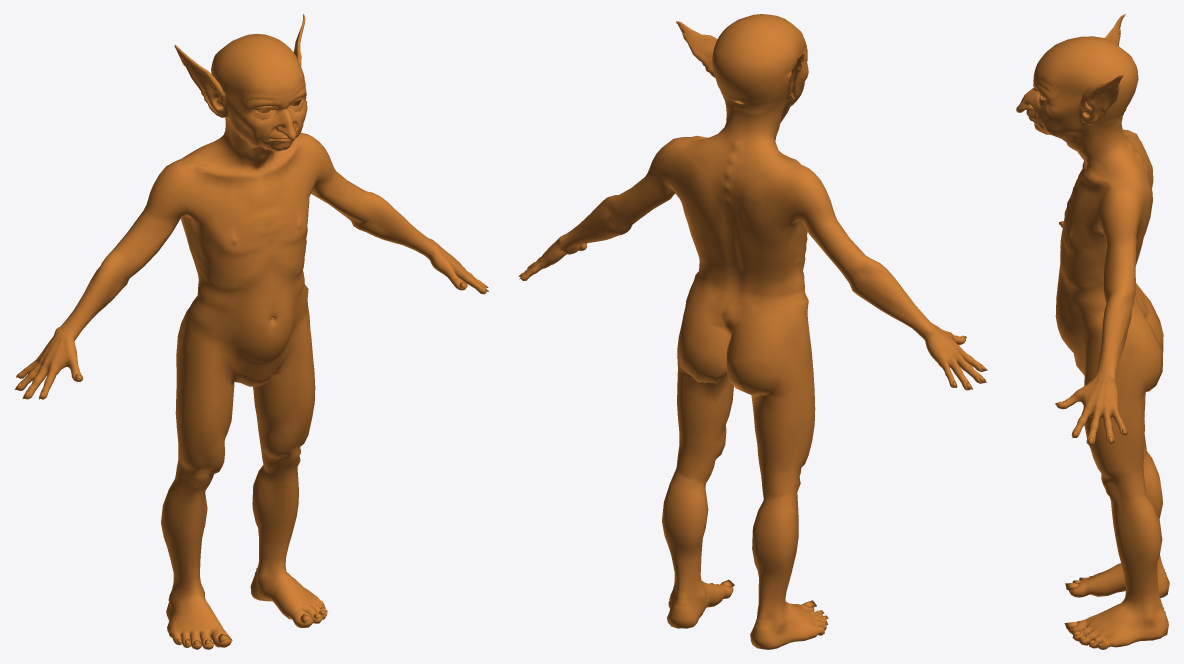
File: goblin.obj
The picture shows the model from 3 angles, left to right: view 1: azimuth 30°, elevation 25°; view 2: azimuth 150°, elevation 25°; view 3: azimuth 270°, elevation 25°; orthographic projection. The views are drawn at different scales.
Visible parts, largest first — view 1: goblin; view 2: goblin; view 3: goblin.
Boxes of the visible parts, x1,y1,x2,y2 form: goblin: (14,14,488,649); goblin: (518,14,987,649); goblin: (1016,14,1169,649).
Bounding box in the file's own units: 1.96 × 2.41 × 0.5818.
